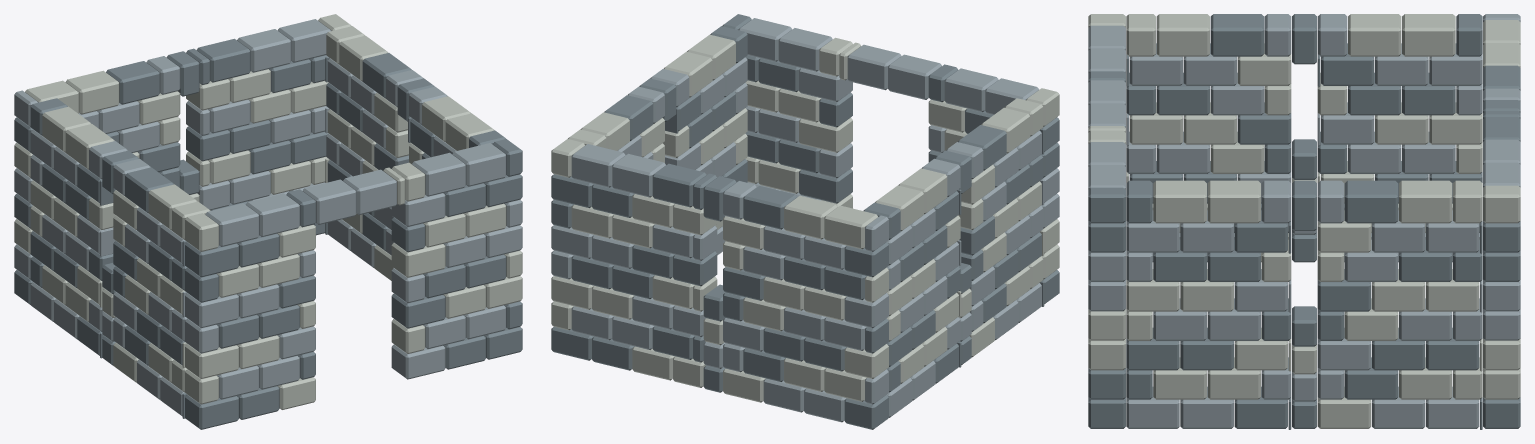
Rendered from castle_tower_storey_4m.glb.
The picture shows the model from 3 angles, left to right: view 1: azimuth 30°, elevation 25°; view 2: azimuth 150°, elevation 25°; view 3: azimuth 270°, elevation 25°; orthographic projection. The views are drawn at different scales.
Visible parts, largest first — view 1: castle_tower_storey_4m; view 2: castle_tower_storey_4m; view 3: castle_tower_storey_4m.
Boxes of the visible parts, x1,y1,x2,y2 form: castle_tower_storey_4m: (14, 14, 522, 429); castle_tower_storey_4m: (551, 14, 1059, 429); castle_tower_storey_4m: (1088, 14, 1520, 429).
Size of the model in its own units: 4 by 2.39 by 4.
